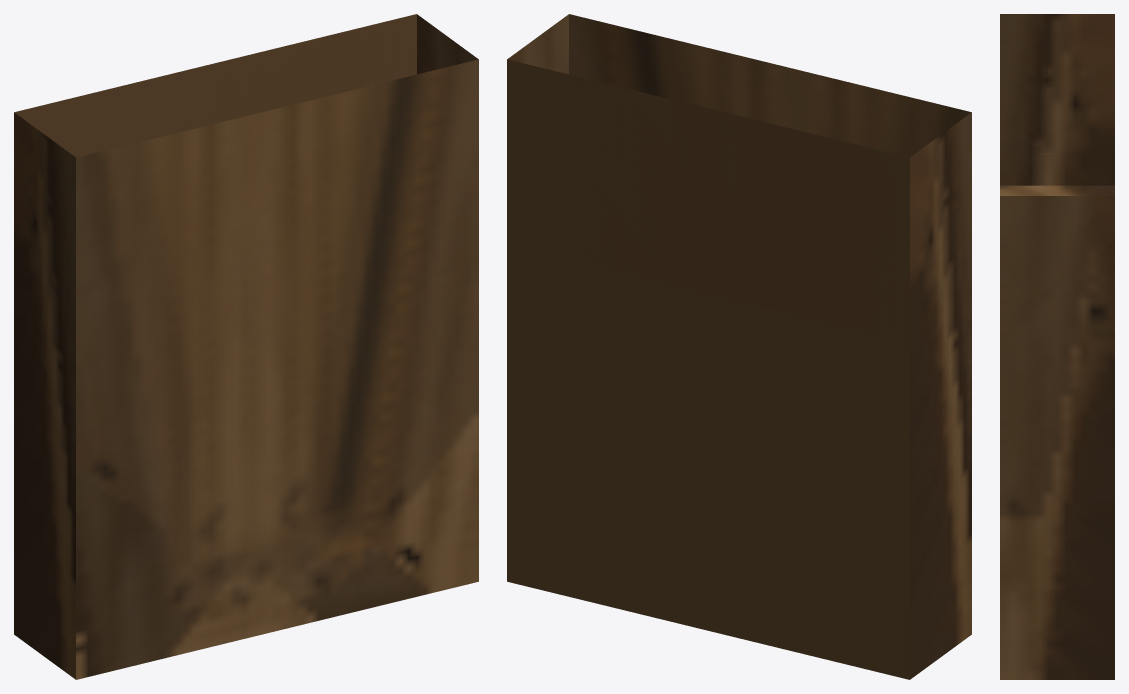
The model's file is section-5.obj.
The picture shows the model from 3 angles, left to right: view 1: azimuth 30°, elevation 25°; view 2: azimuth 150°, elevation 25°; view 3: azimuth 270°, elevation 25°; orthographic projection. The views are drawn at different scales.
Bounding box in the file's own units: 0.75 × 0.9296 × 0.2.
1 material, 1 textured.
